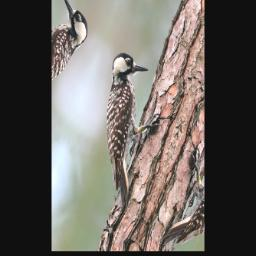Woodpecker: (73, 43, 174, 217)
